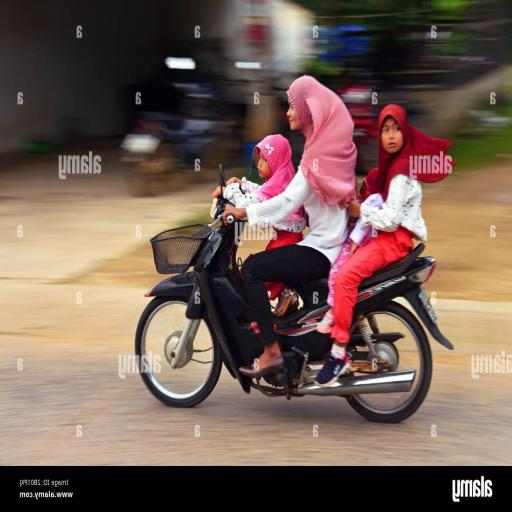overloading: (133, 160, 453, 425)
